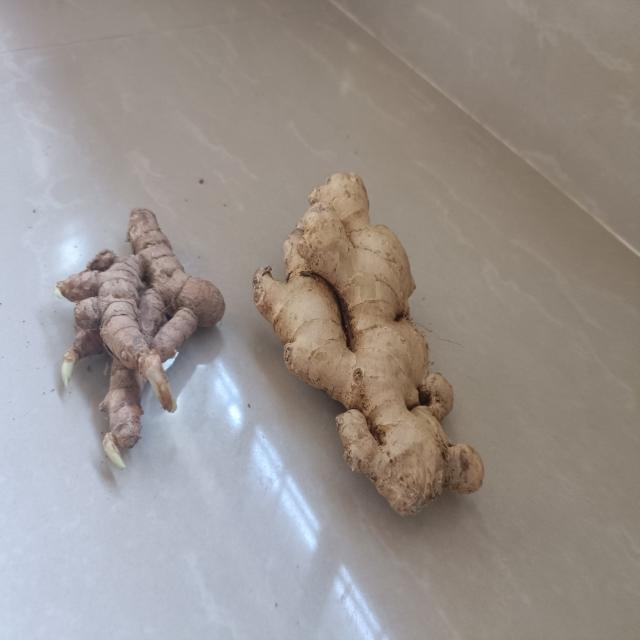ginger: (253, 166, 485, 511), (52, 205, 227, 462)
